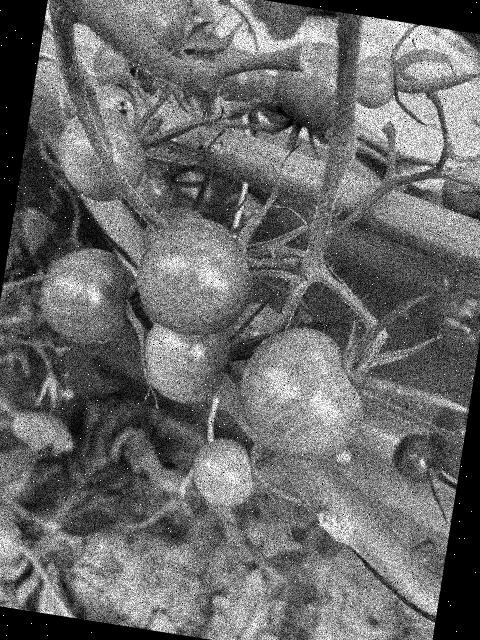l_green: (51, 102, 153, 208), (137, 315, 234, 410), (268, 36, 347, 137), (187, 433, 261, 513), (199, 44, 273, 123), (221, 298, 293, 372), (108, 0, 198, 55), (419, 285, 480, 362), (421, 394, 470, 480), (389, 429, 446, 485), (350, 51, 401, 112), (439, 156, 480, 222)
l_half_ripened: (229, 317, 376, 468), (128, 207, 263, 346), (33, 240, 144, 349)
